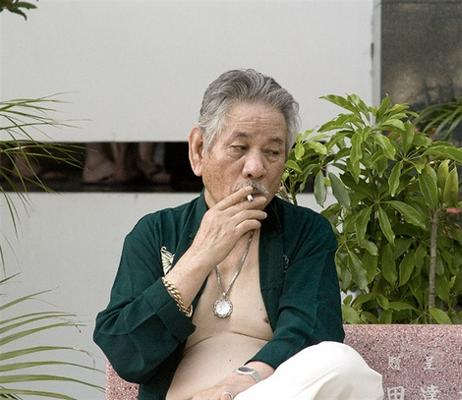person: (92, 67, 386, 400)
